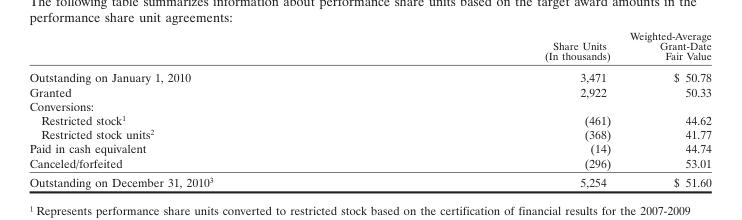table: (28, 28, 710, 188)
table column: (28, 28, 378, 188), (378, 28, 619, 188), (619, 28, 710, 188)
table column header: (28, 28, 710, 66)
table projected row header: (28, 98, 710, 112)
table row: (28, 28, 710, 66), (28, 66, 710, 84), (28, 155, 710, 172), (28, 172, 710, 188), (28, 126, 710, 141), (28, 84, 710, 98), (28, 98, 710, 112), (28, 112, 710, 126), (28, 141, 710, 155)
